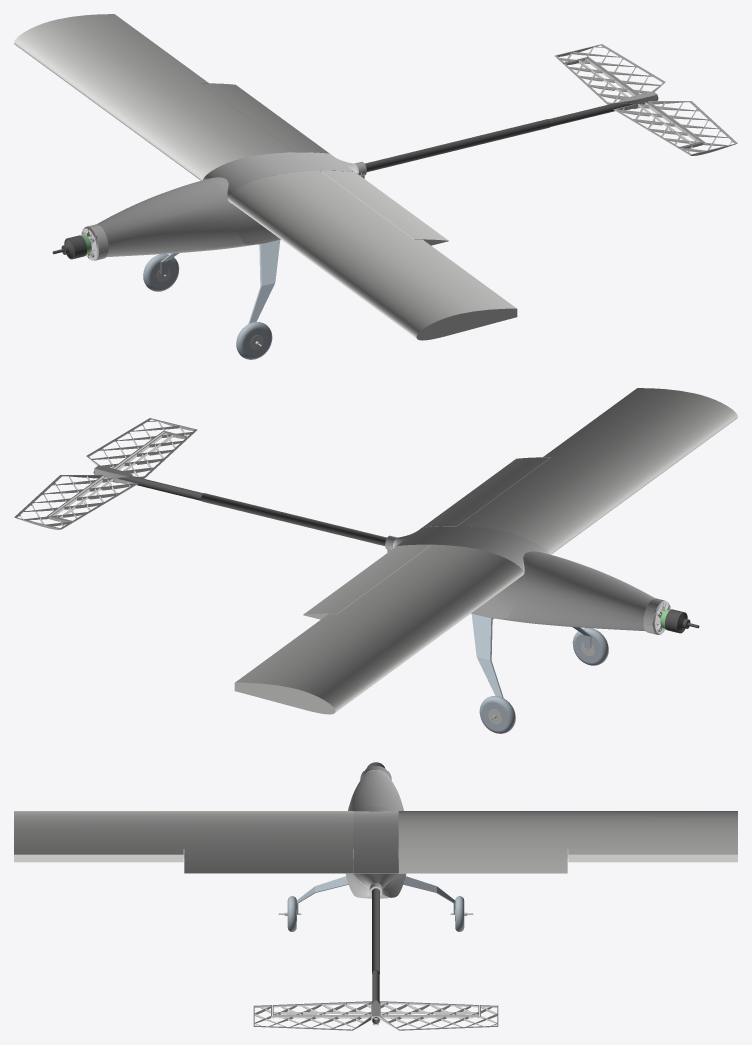
Rendered from icarus_3w.glb.
The picture shows the model from 3 angles, top to bottom: view 1: azimuth 30°, elevation 25°; view 2: azimuth 150°, elevation 25°; view 3: azimuth 270°, elevation 25°; orthographic projection. The views are drawn at different scales.
Visible parts, largest first — view 1: Wings [Ensamble] v1 (1) (×2), Wings [Ensamble] v1 (1)(Mirror) (×2), Main Fuselage (1) v1, optimizedHS v2 (×4), MainLandingGear v2, CF 18mm 50cm v1, CF 16mm 50cm v1, motor_mount v1; view 2: Wings [Ensamble] v1 (1)(Mirror) (×2), Wings [Ensamble] v1 (1) (×2), Main Fuselage (1) v1, optimizedHS v2 (×4), MainLandingGear v2, CF 18mm 50cm v1, CF 16mm 50cm v1, motor_mount v1; view 3: Wings [Ensamble] v1 (1) (×2), Wings [Ensamble] v1 (1)(Mirror) (×2), Main Fuselage (1) v1, optimizedHS v2 (×4), MainLandingGear v2, CF 18mm 50cm v1.
Boxes of the visible parts, x1=… form: Wings [Ensamble] v1 (1) (×2): x1=228, y1=170, x2=517, y2=340; Wings [Ensamble] v1 (1)(Mirror) (×2): x1=14, y1=14, x2=329, y2=180; Main Fuselage (1) v1: x1=88, y1=152, x2=358, y2=257; optimizedHS v2 (×4): x1=554, y1=44, x2=737, y2=155; MainLandingGear v2: x1=143, y1=240, x2=280, y2=359; CF 18mm 50cm v1: x1=365, y1=119, x2=550, y2=171; CF 16mm 50cm v1: x1=549, y1=96, x2=658, y2=126; motor_mount v1: x1=81, y1=224, x2=108, y2=260; Wings [Ensamble] v1 (1)(Mirror) (×2): x1=234, y1=544, x2=523, y2=714; Wings [Ensamble] v1 (1) (×2): x1=422, y1=388, x2=737, y2=554; Main Fuselage (1) v1: x1=393, y1=526, x2=663, y2=631; optimizedHS v2 (×4): x1=14, y1=418, x2=197, y2=529; MainLandingGear v2: x1=471, y1=614, x2=608, y2=733; CF 18mm 50cm v1: x1=201, y1=493, x2=386, y2=545; CF 16mm 50cm v1: x1=93, y1=470, x2=202, y2=500; motor_mount v1: x1=643, y1=598, x2=670, y2=634; Wings [Ensamble] v1 (1) (×2): x1=14, y1=811, x2=353, y2=873; Wings [Ensamble] v1 (1)(Mirror) (×2): x1=398, y1=811, x2=737, y2=873; Main Fuselage (1) v1: x1=345, y1=770, x2=406, y2=898; optimizedHS v2 (×4): x1=253, y1=1001, x2=498, y2=1030; MainLandingGear v2: x1=278, y1=876, x2=473, y2=931; CF 18mm 50cm v1: x1=372, y1=888, x2=379, y2=973.
Size of what is drawn, in the model's own units: 144 by 32 by 160.
